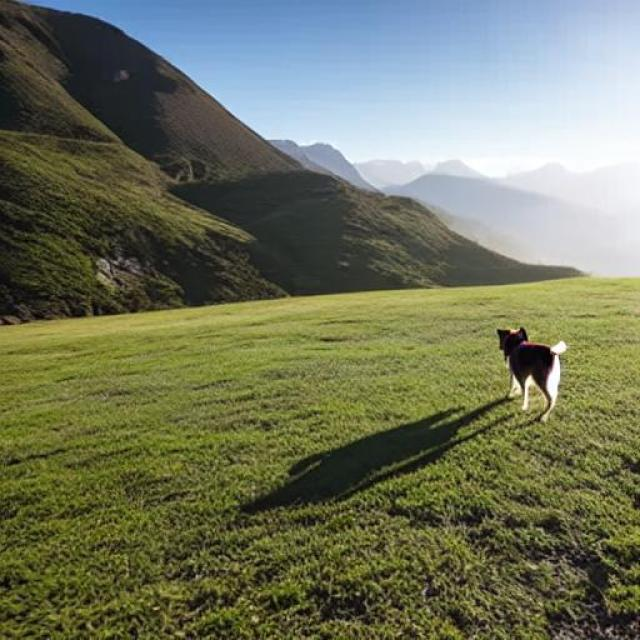Dog: (498, 327, 569, 421)
